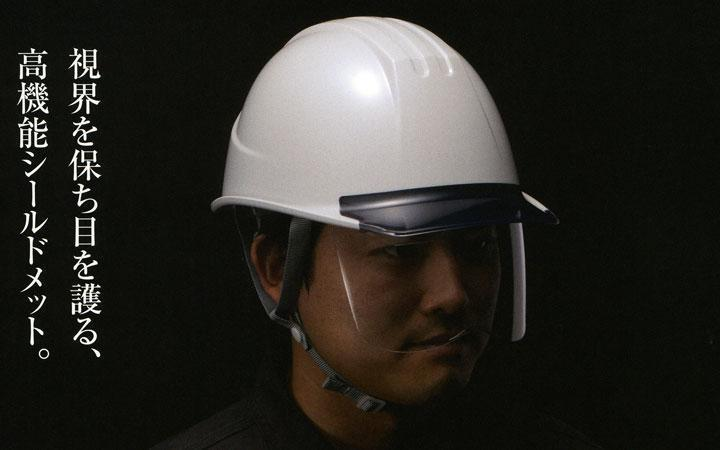helmet: (208, 13, 521, 239)
